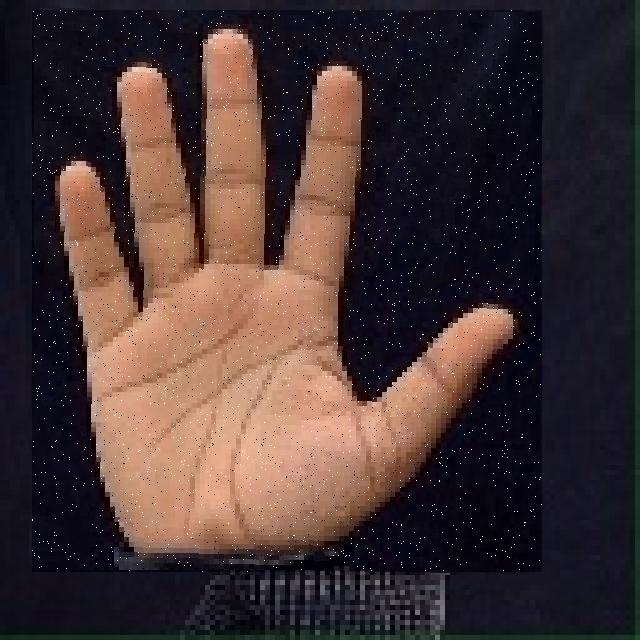Yes: (32, 10, 542, 572)
